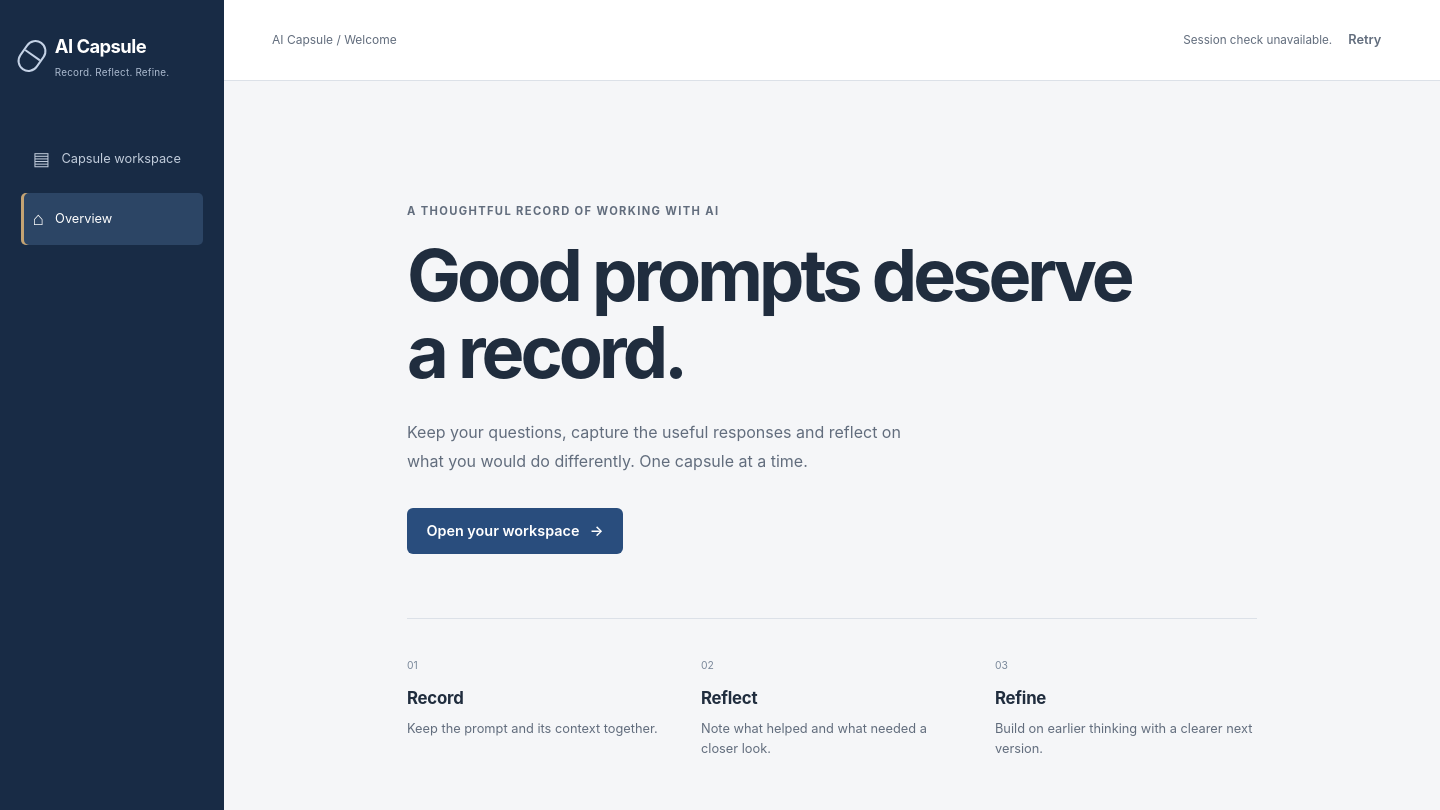
Scenario: overview session navigation › offers a retry after a session-check failure and distinguishes it from 401
Expected: the text "Session check unavailable." is shown, [1183,31,1332,49]
Expected: the link "Sign in" is not shown
Click the button "Retry": (1365, 40) [1338,18,1392,62]
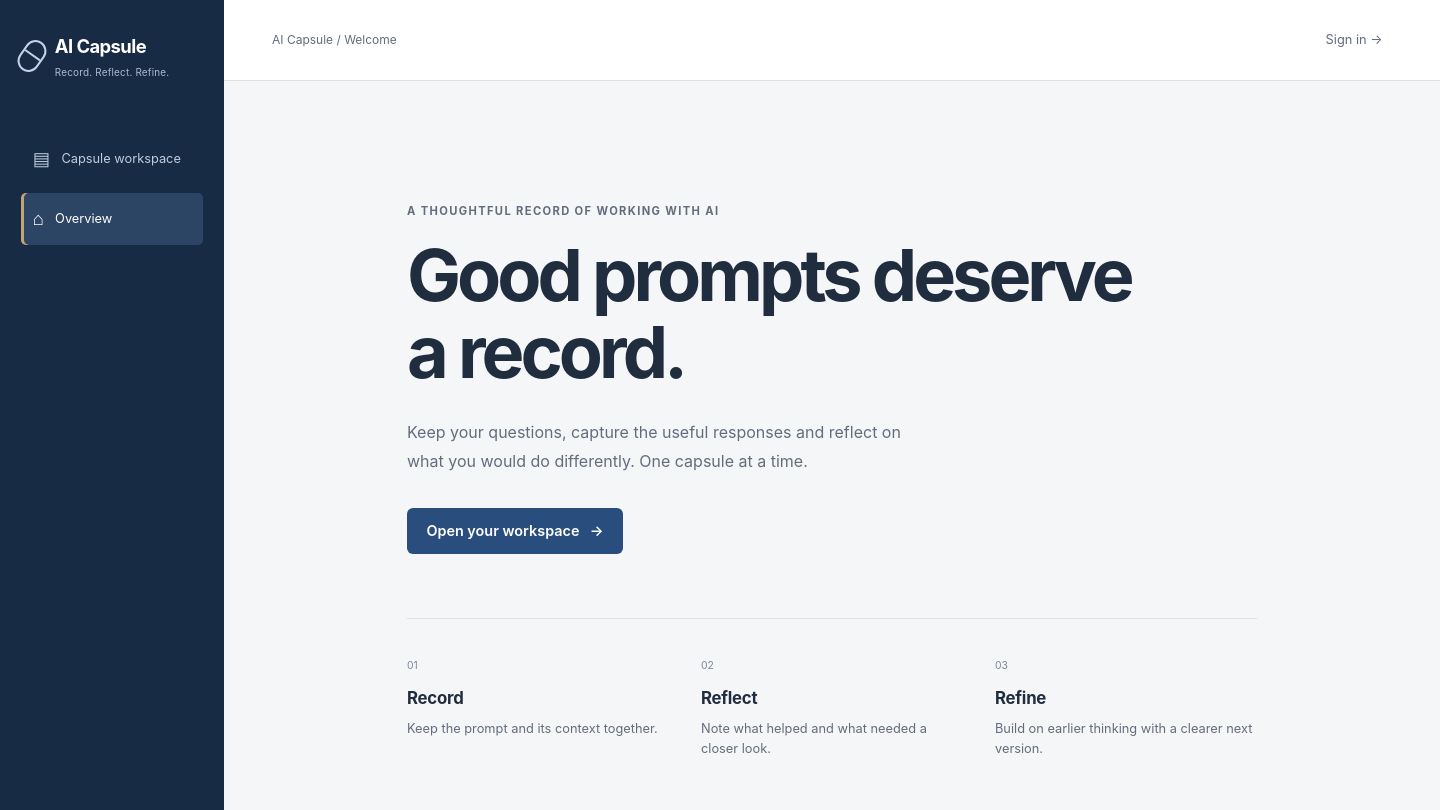
Expected: the link "Sign in →" is shown, [1326,32,1382,47]
